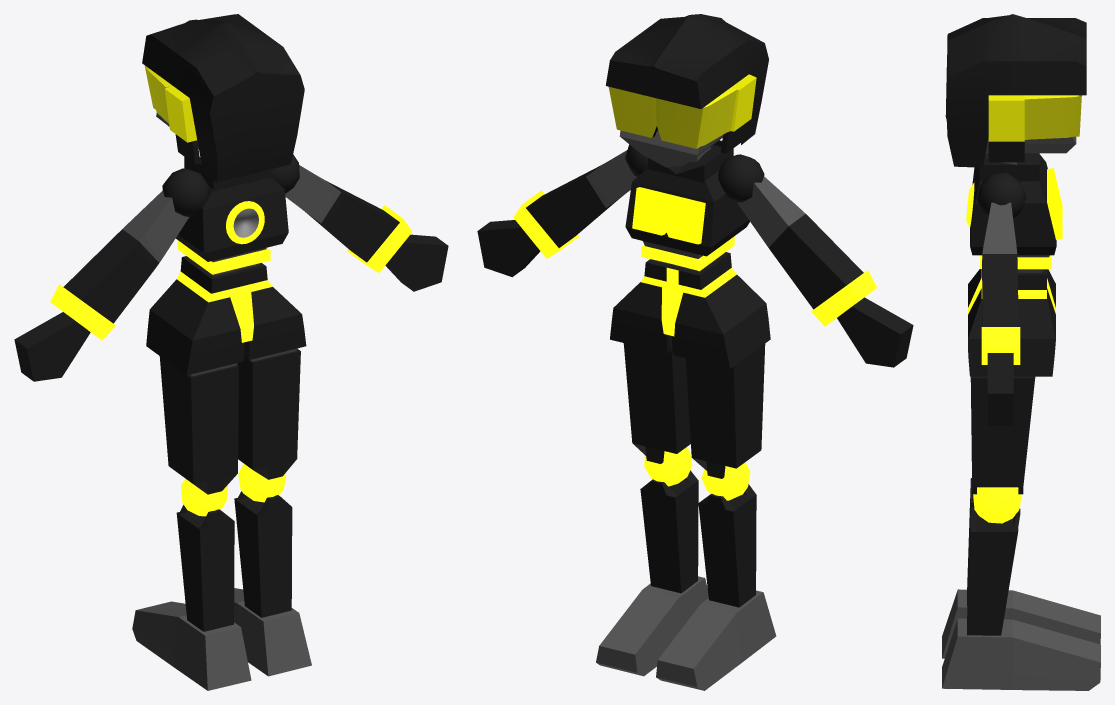
The model's file is lowpolyguy.fbx.
The picture shows the model from 3 angles, left to right: view 1: azimuth 30°, elevation 25°; view 2: azimuth 150°, elevation 25°; view 3: azimuth 270°, elevation 25°; orthographic projection. The views are drawn at different scales.
Parts seen in each view (by area): view 1: Helmet, UpperLeg, leftarm, Hips.001, LowerLeg, Foot, Torso, lefthand, UpperJoint, Joint, ChakramHolder; view 2: Helmet, leftarm, UpperLeg, Foot, Hips.001, LowerLeg, Torso, lefthand, Chestplate, Joint, UpperJoint, MainHead; view 3: Helmet, Foot, Hips.001, UpperLeg, leftarm, Torso, LowerLeg, lefthand, UpperJoint, Joint, MainHead, Chestplate.
Boxes of the visible parts, <box> form: Helmet: <box>142,14,304,182</box>; UpperLeg: <box>159,349,300,494</box>; leftarm: <box>50,165,412,340</box>; Hips.001: <box>146,256,306,375</box>; LowerLeg: <box>176,491,292,631</box>; Foot: <box>132,588,311,690</box>; Torso: <box>175,157,288,276</box>; lefthand: <box>14,234,448,381</box>; UpperJoint: <box>162,154,299,216</box>; Joint: <box>181,464,286,516</box>; ChakramHolder: <box>226,201,264,244</box>; Helmet: <box>605,14,768,153</box>; leftarm: <box>513,150,877,326</box>; UpperLeg: <box>623,343,765,478</box>; Foot: <box>596,576,776,690</box>; Hips.001: <box>610,252,770,368</box>; LowerLeg: <box>640,470,756,607</box>; Torso: <box>625,140,749,272</box>; lefthand: <box>477,220,913,367</box>; Chestplate: <box>632,187,705,244</box>; Joint: <box>644,447,750,500</box>; UpperJoint: <box>625,144,764,202</box>; MainHead: <box>619,129,722,167</box>; Helmet: <box>945,14,1086,167</box>; Foot: <box>942,589,1100,690</box>; Hips.001: <box>968,269,1055,376</box>; UpperLeg: <box>970,376,1035,494</box>; leftarm: <box>981,202,1020,364</box>; Torso: <box>970,153,1056,272</box>; LowerLeg: <box>967,478,1020,635</box>; lefthand: <box>987,353,1013,425</box>; UpperJoint: <box>976,172,1026,217</box>; Joint: <box>973,487,1021,523</box>; MainHead: <box>985,136,1076,153</box>; Chestplate: <box>1047,168,1062,239</box>.
Size of the model in its own units: 307 by 441 by 97.66.
Materials: 1 (1 with a texture image).
